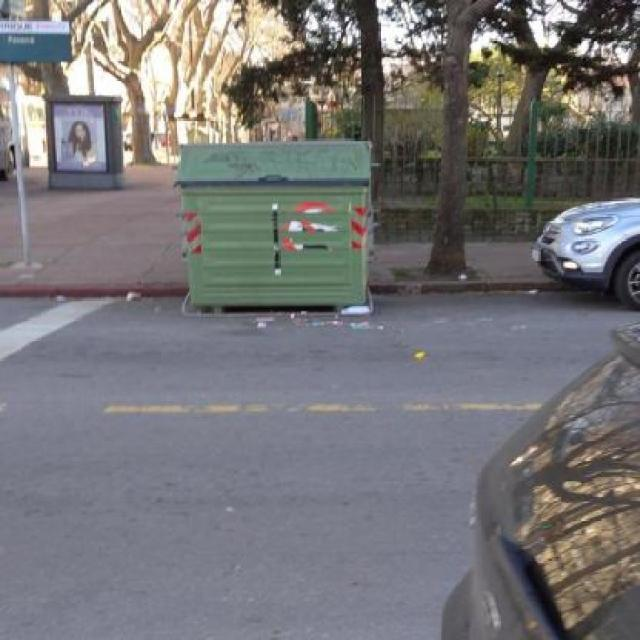garbage: (108, 289, 491, 369)
